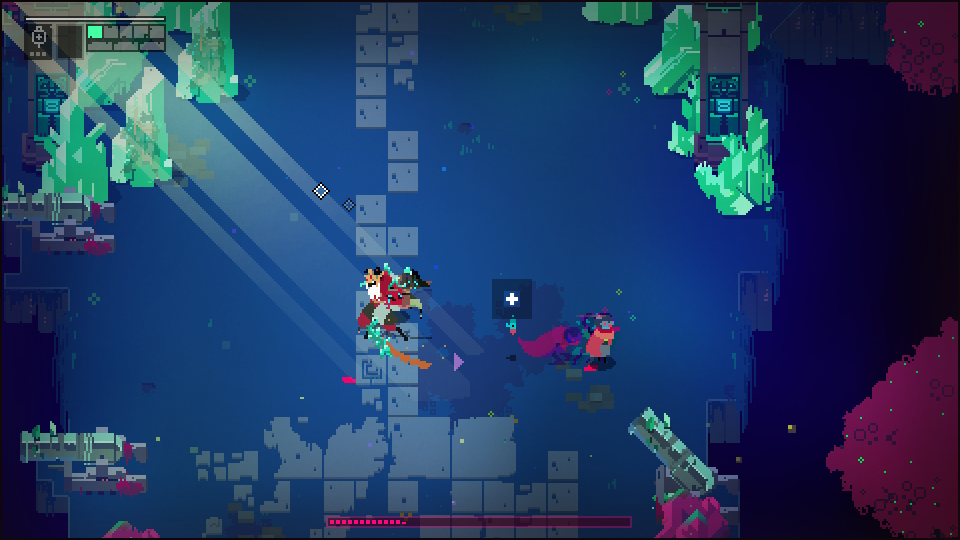hanged_man: (355, 257, 432, 364)
player: (583, 312, 617, 362)
